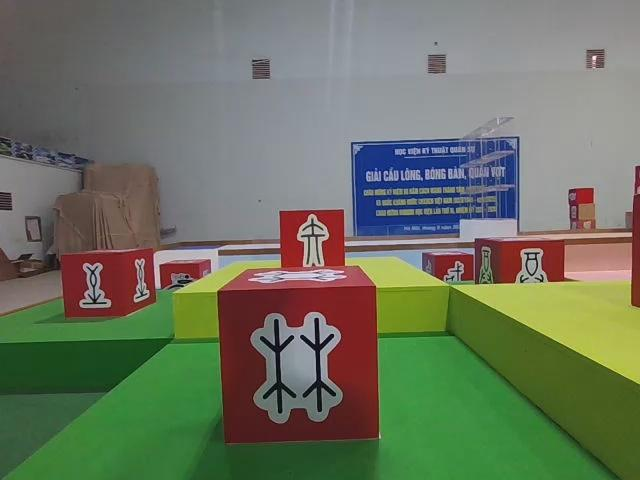R1: (159, 257, 213, 296)
R2 Fake: (277, 206, 348, 274)
R2 Real: (213, 264, 382, 446), (58, 244, 157, 318), (471, 234, 567, 293), (421, 249, 476, 287)
